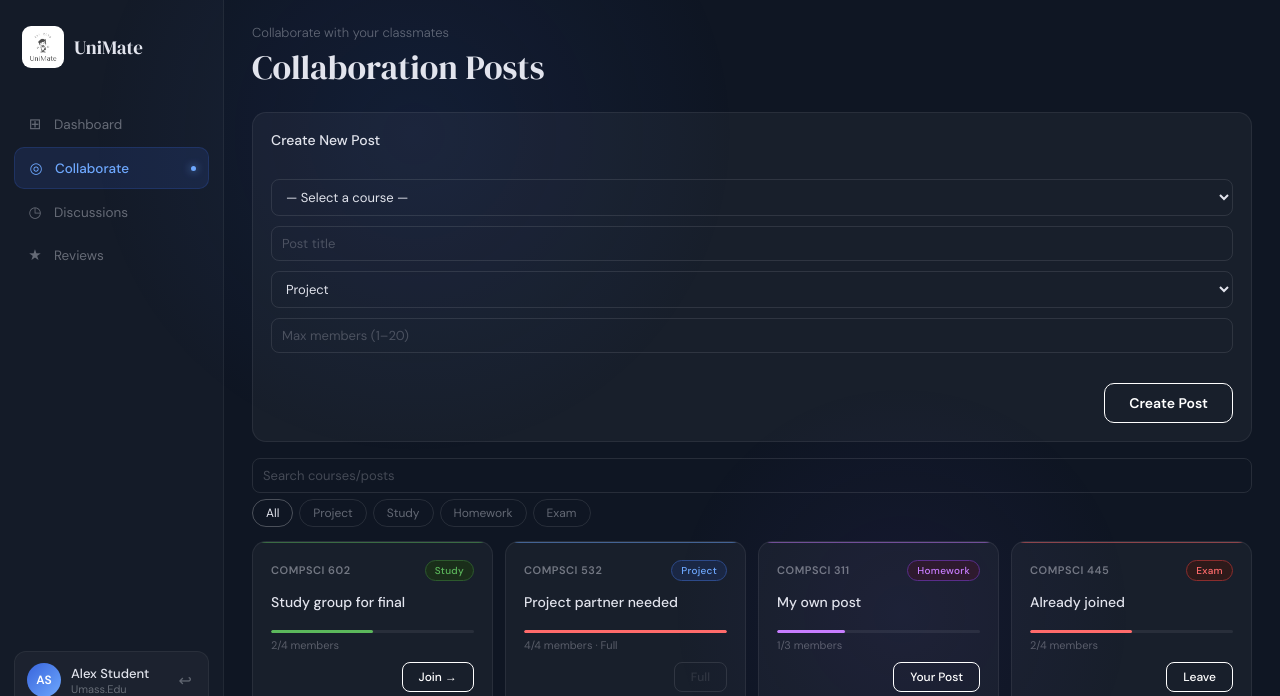
CollaboratePage › creating a post › shows error when title is empty
The image size is (1280, 696).
Select "COMPSCI 602 — Research Methods" in the dropdown named "Select a course". click: (752, 197)
box: [271,179,1233,216]
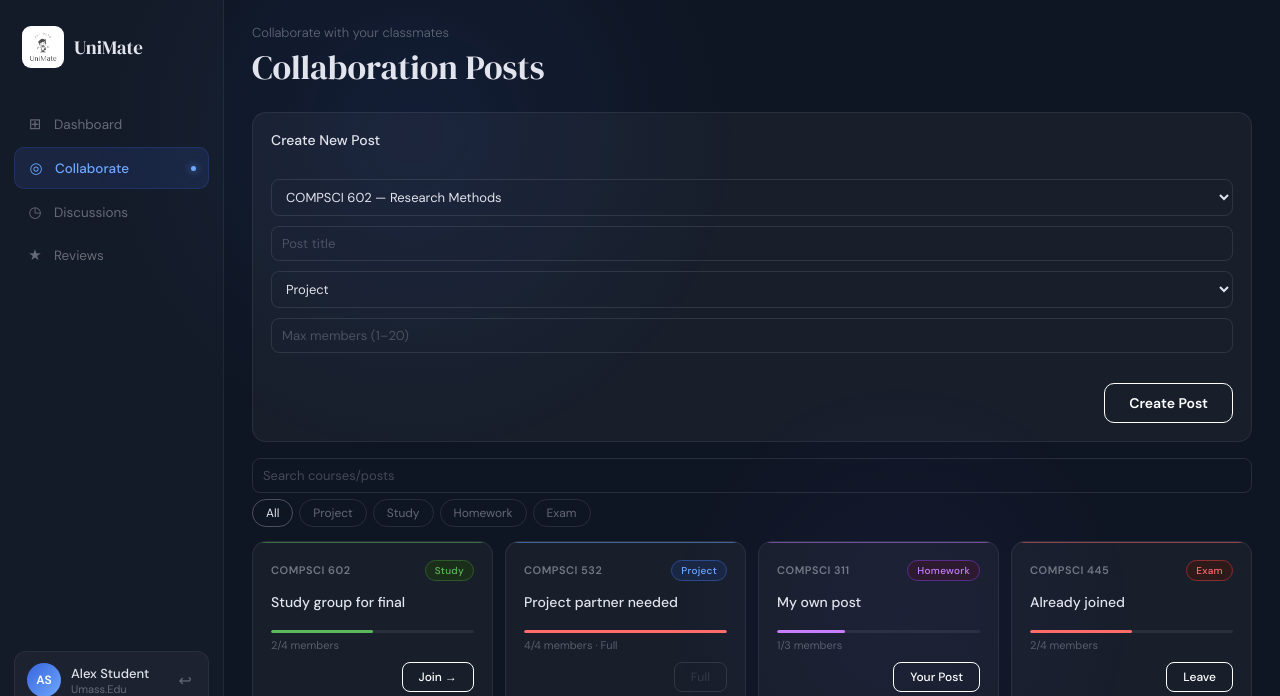
Click the button "Create Post". click: (1169, 403)
box: [1104,383,1233,423]
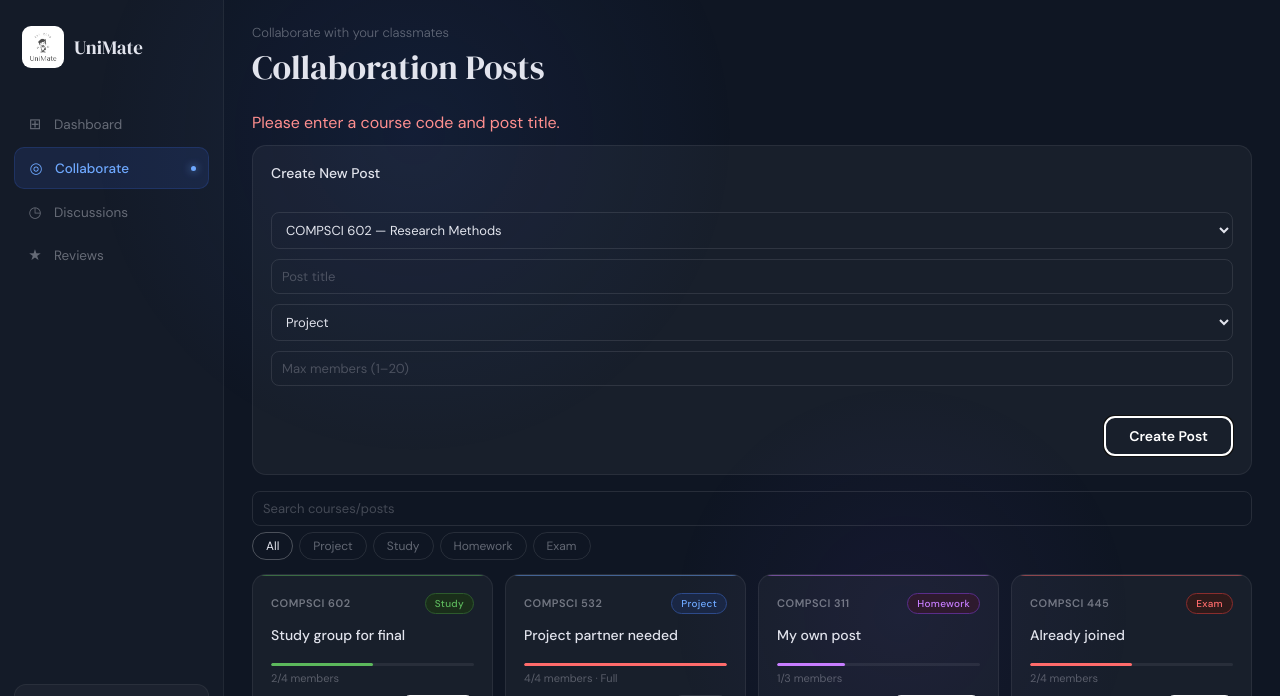
Check: the text "Please enter a course code and post title." is shown, box [252,112,560,133]
